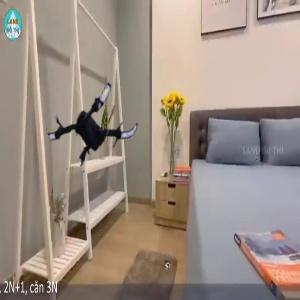drone: (40, 79, 141, 180)
